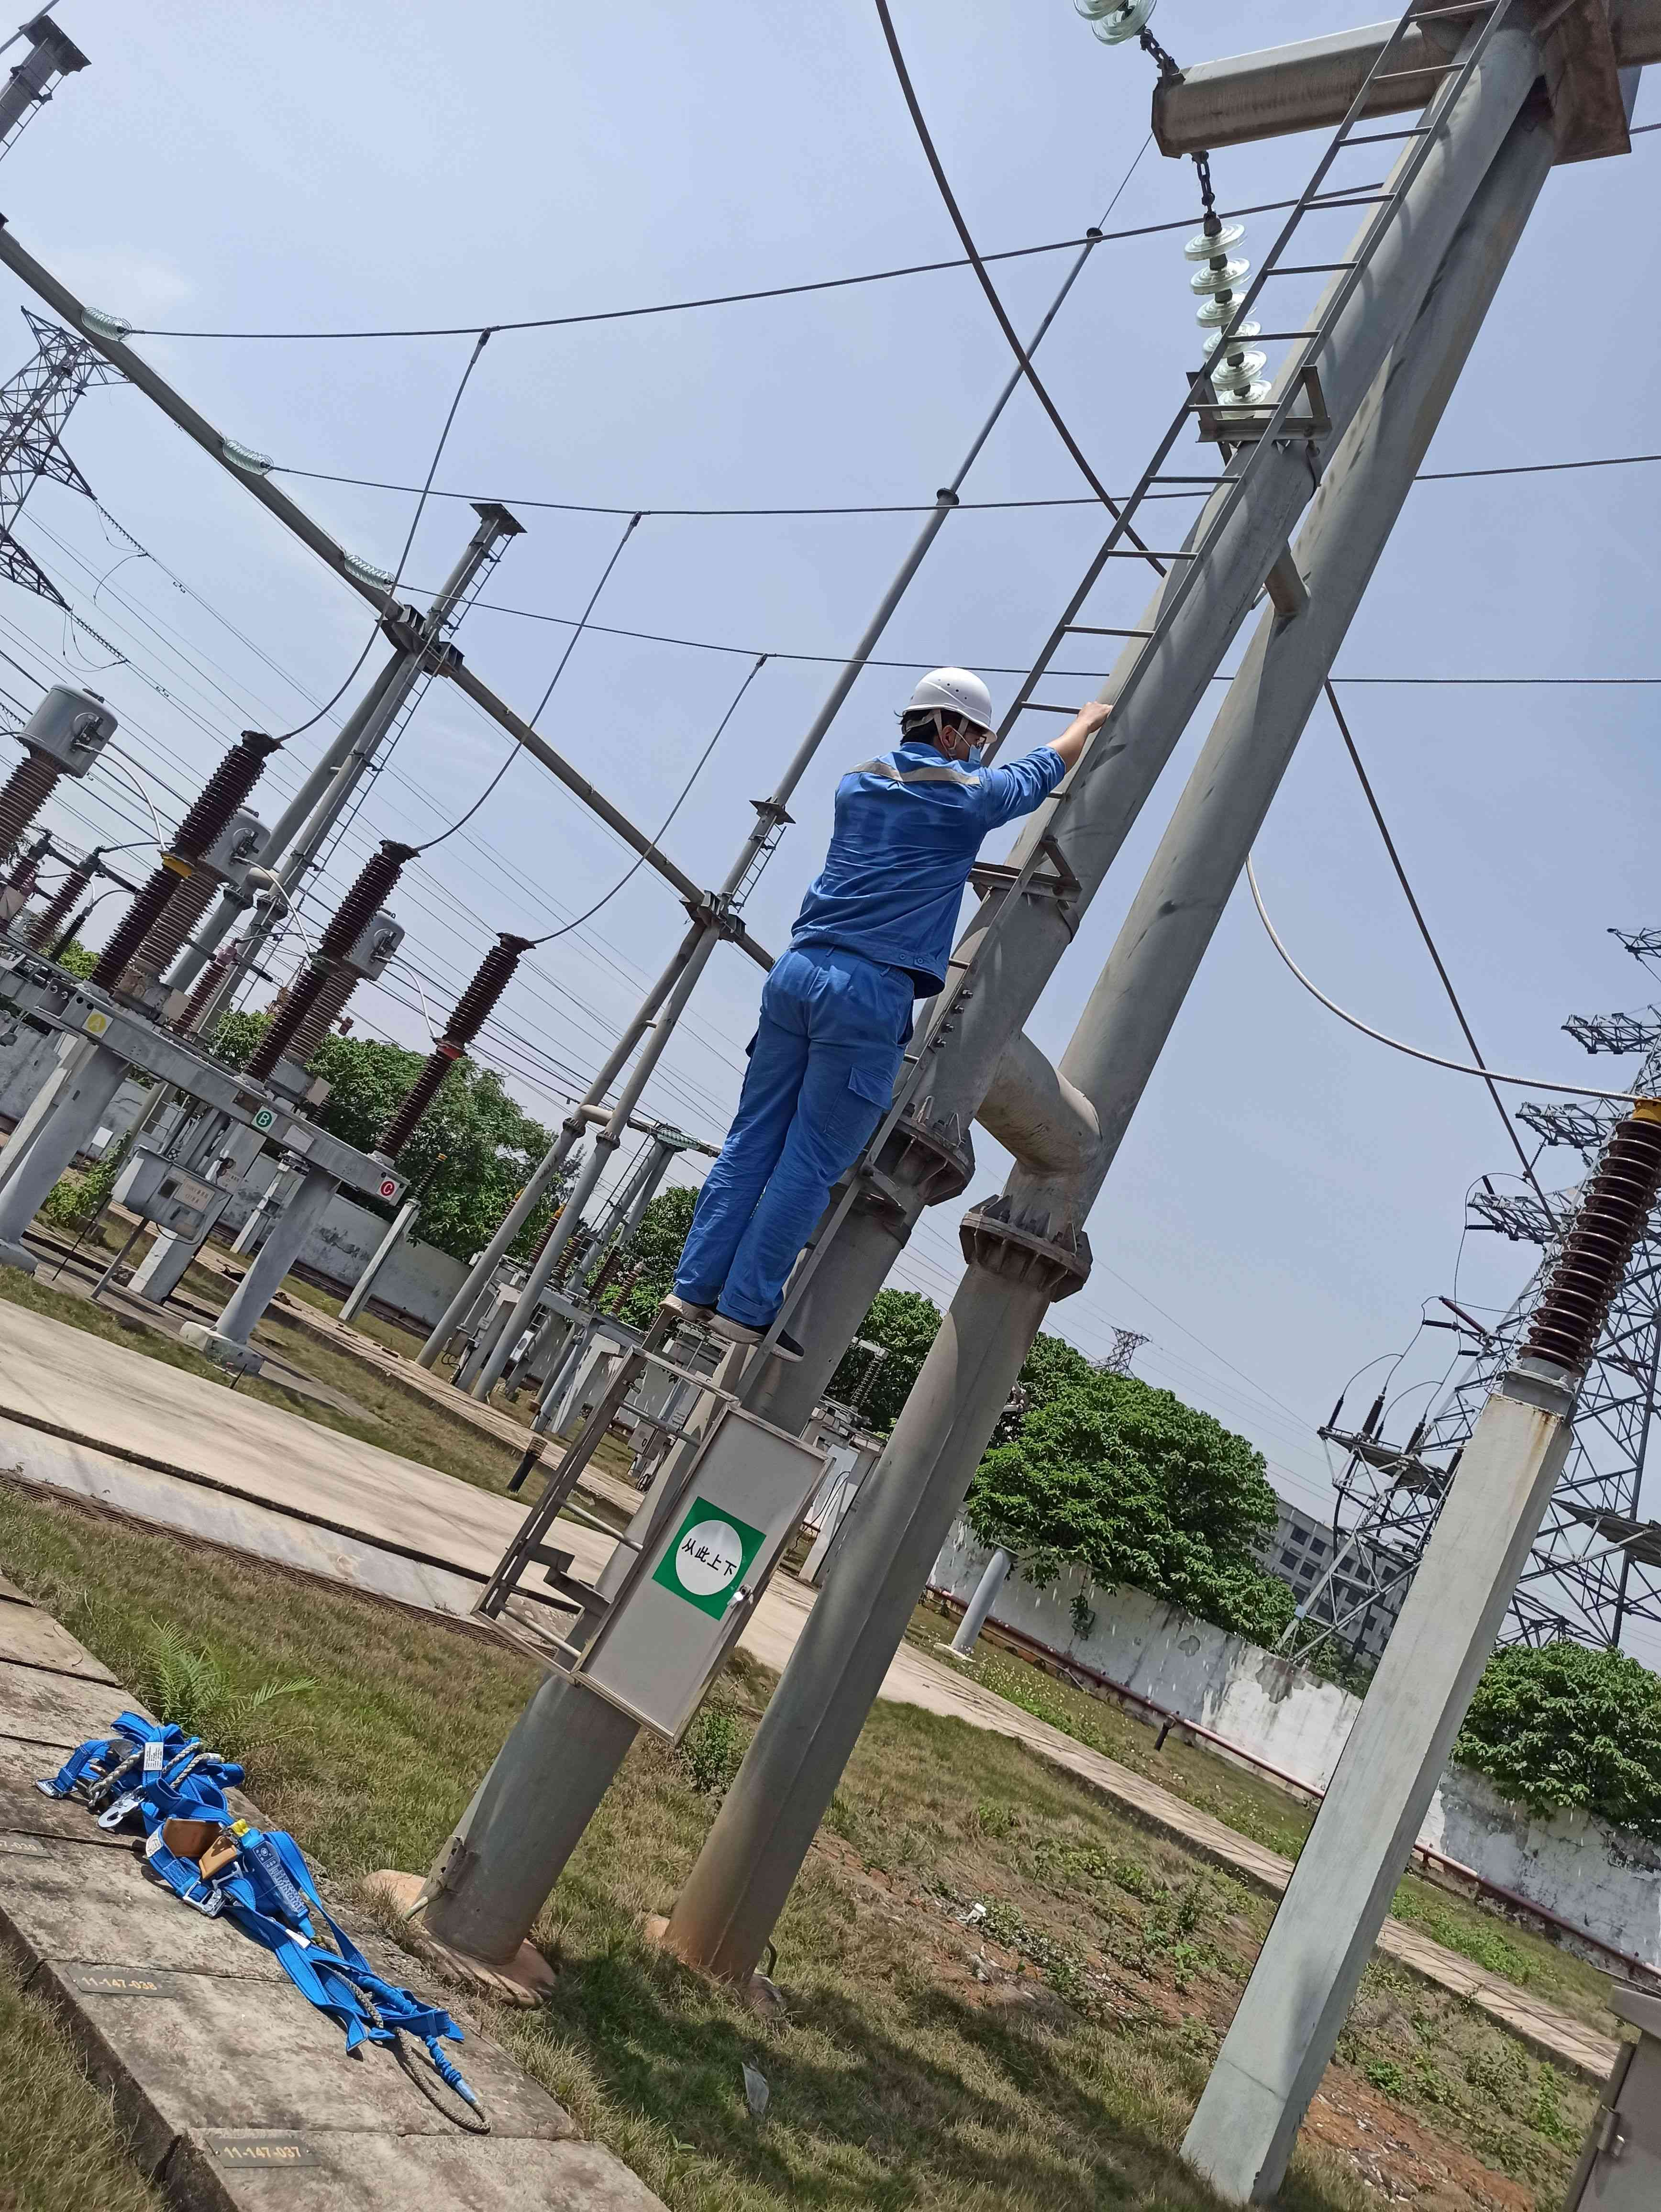downsuit: (689, 944, 939, 1326)
upsuit: (803, 745, 988, 975)
wrongtop: (995, 703, 1115, 804)
